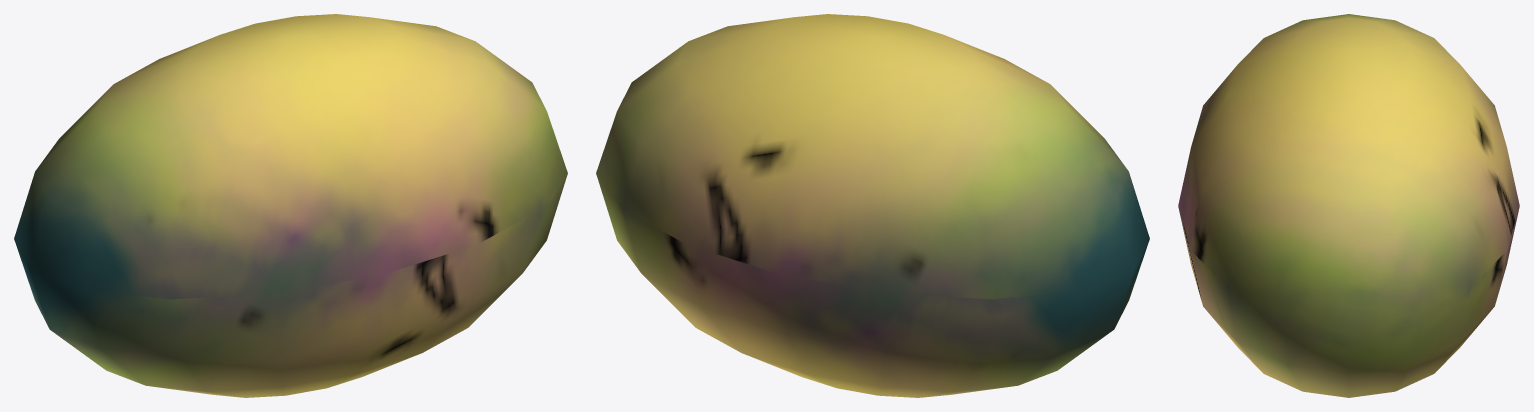
The model's file is CosmicGoo_Bulb_Small.fbx.
3 renders of one model, left to right at view 1: azimuth 30°, elevation 25°; view 2: azimuth 150°, elevation 25°; view 3: azimuth 270°, elevation 25°, orthographic. The views are drawn at different scales.
Visible parts, largest first — view 1: GooSac_Small; view 2: GooSac_Small; view 3: GooSac_Small.
Boxes of the visible parts, x1,y1,x2,y2 form: GooSac_Small: (14,14,567,397); GooSac_Small: (596,14,1149,397); GooSac_Small: (1178,14,1519,397).
Size of the model in its own units: 3.75 by 2.32 by 2.32.
